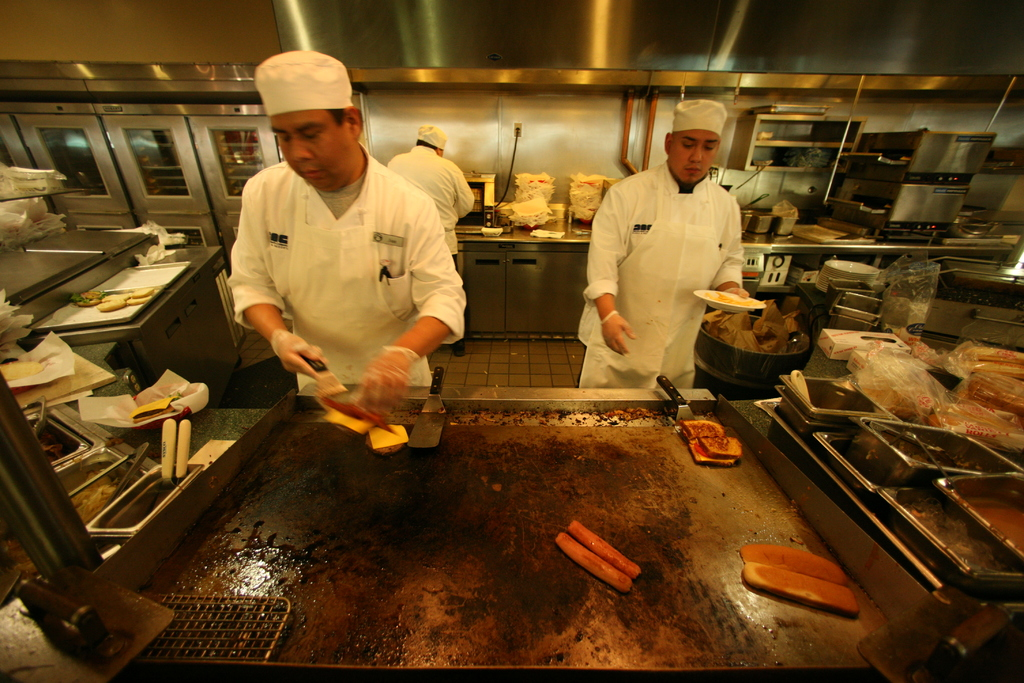Person: (226, 49, 467, 418), (578, 99, 749, 388), (387, 124, 474, 356)
